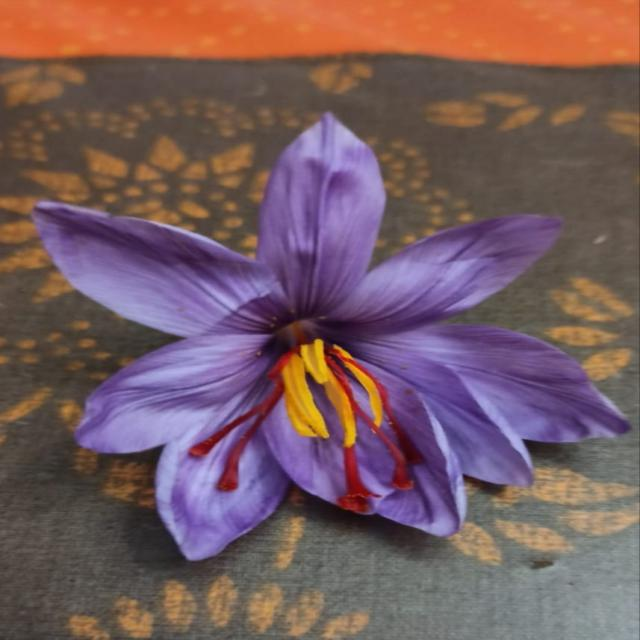saffron open: (34, 114, 628, 560)
